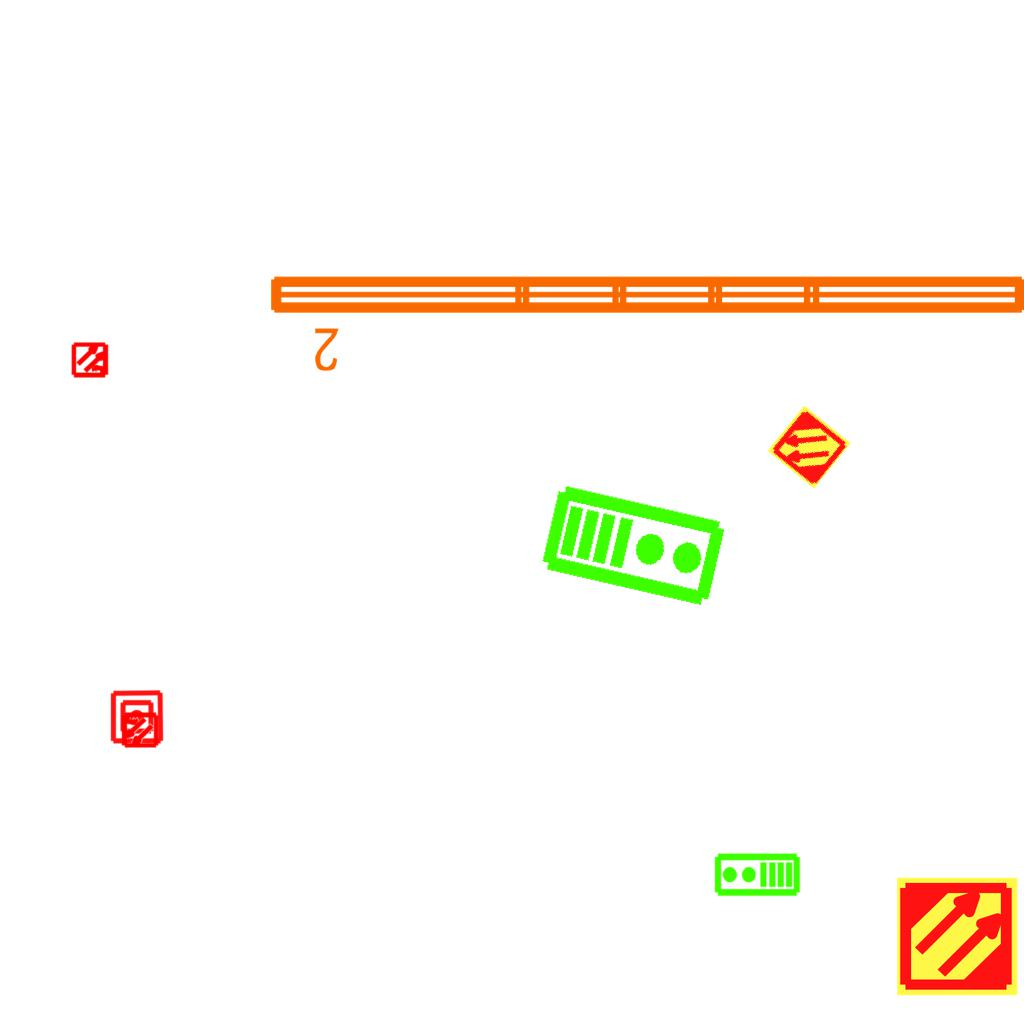ASR_Ansaugrauchmelder: (895, 874, 1020, 999), (765, 403, 853, 491)
Ambulanz_Pendelleuchte_LED: (262, 264, 1024, 376)
Gegensprechanlage_mit_Video: (538, 477, 731, 611), (713, 852, 801, 899)
NAM-Nichtautomatischer_Melder: (109, 689, 165, 745)
OT_Multisensormelder_(Kombination_RMO_WMD): (63, 332, 119, 388), (111, 702, 167, 758)
